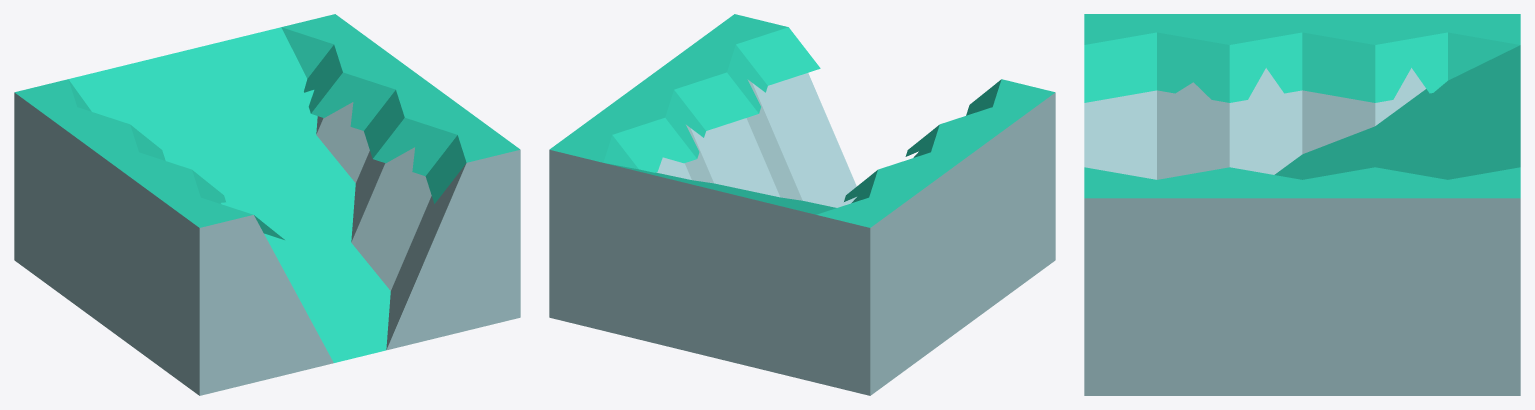
File: cliff_blockSlopeHalfWalls_stone.dae
3 views of the same model, side by side, from view 1: azimuth 30°, elevation 25°; view 2: azimuth 150°, elevation 25°; view 3: azimuth 270°, elevation 25° (orthographic). The views are drawn at different scales.
Visible parts, largest first — view 1: cliff_blockSlopeHalfWalls_stone; view 2: cliff_blockSlopeHalfWalls_stone; view 3: cliff_blockSlopeHalfWalls_stone.
Part boxes in pixels (x1,y1,x2,y2): cliff_blockSlopeHalfWalls_stone: (14, 14, 520, 395); cliff_blockSlopeHalfWalls_stone: (549, 14, 1055, 395); cliff_blockSlopeHalfWalls_stone: (1084, 14, 1520, 395).
Bounding box in the file's own units: 1 × 0.5 × 1.
